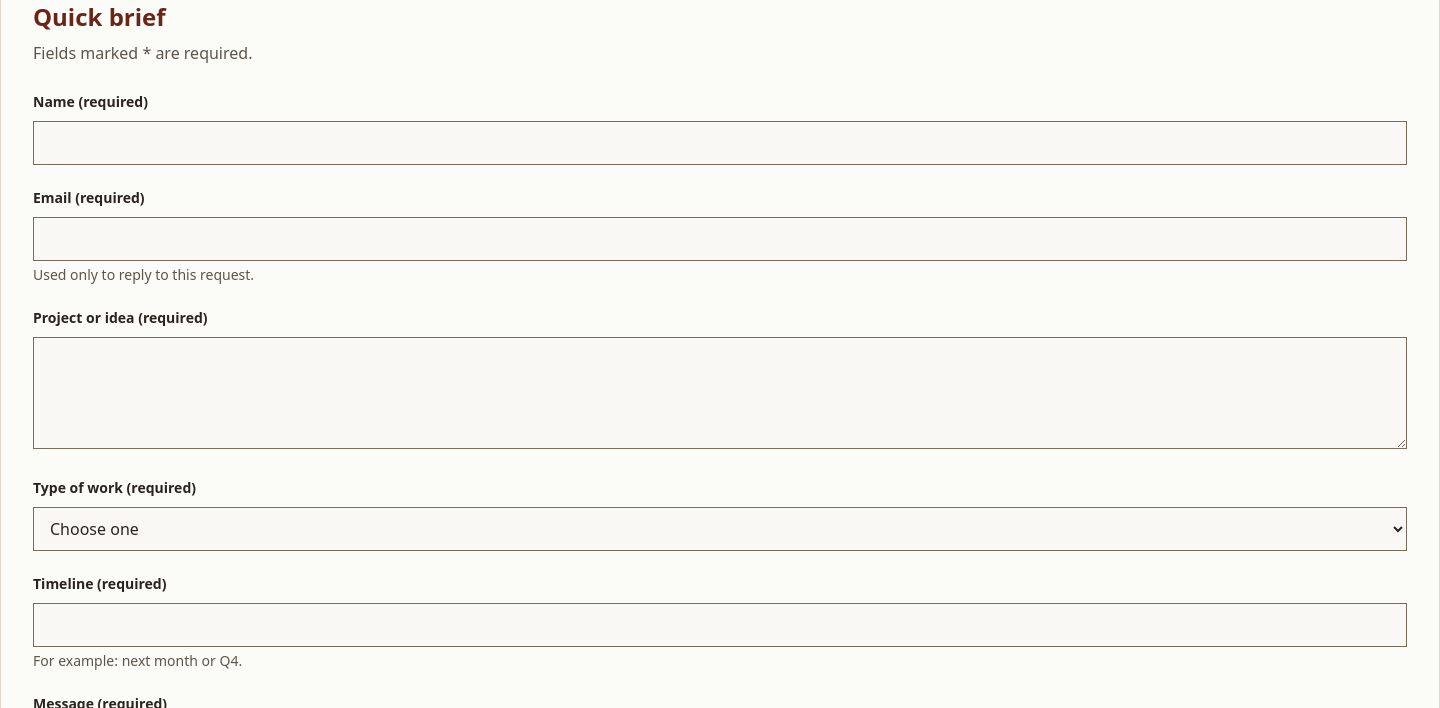
Test: ContactForm › preserves entries after a provider error
Type "David Example" into the field labelled "Name (required)" at (720, 143), box left=33, top=121, right=1407, bottom=165
Type "david@example.com" into the field labelled "Email (required)" at (720, 239), box left=33, top=217, right=1407, bottom=261
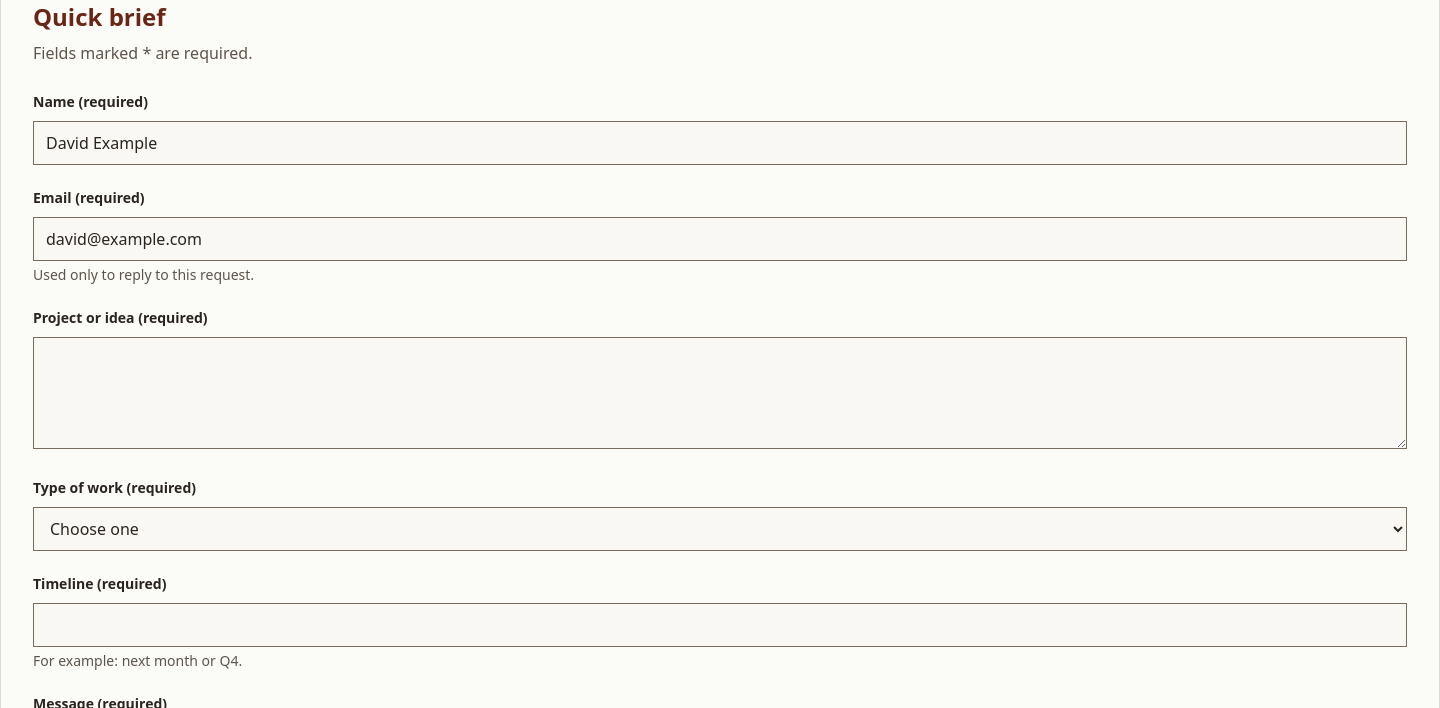
Type "An accessible project" into the text box labelled "Project or idea (required)" at (720, 393), box left=33, top=337, right=1407, bottom=449
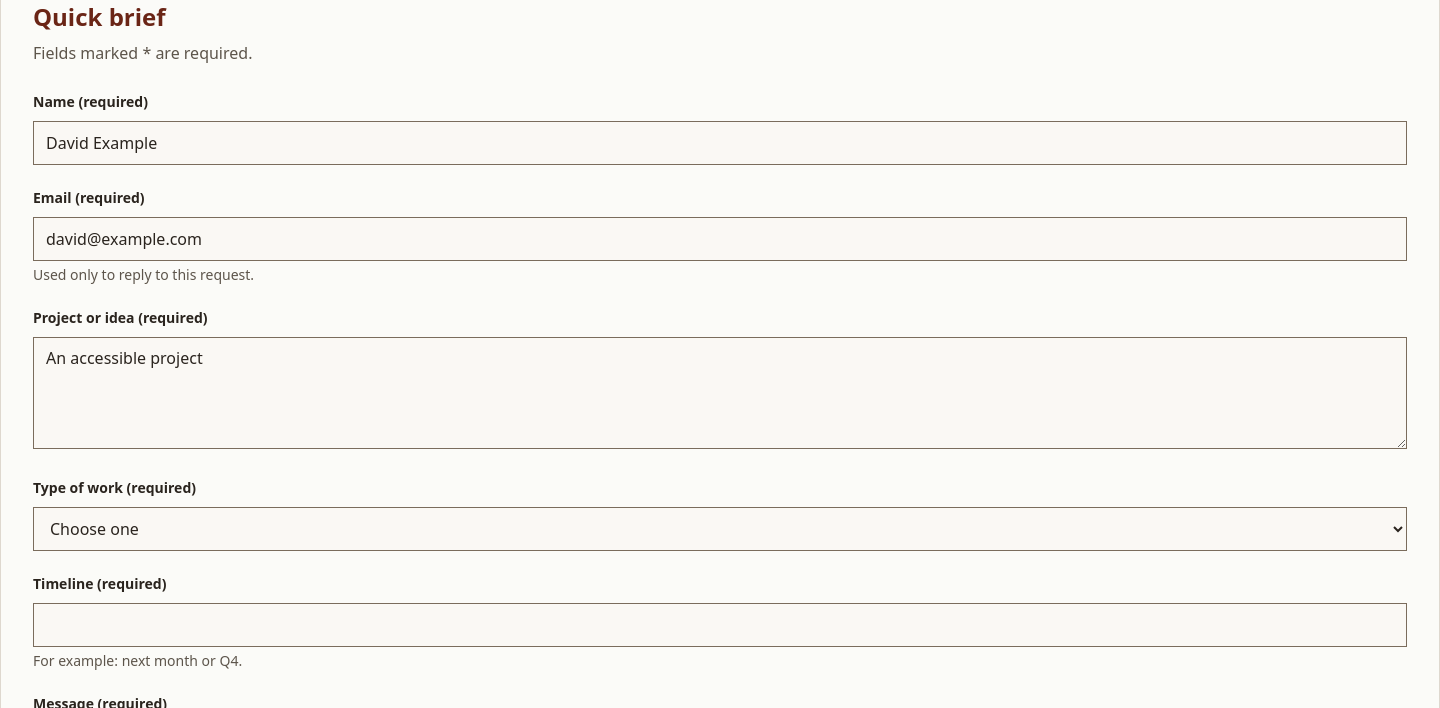
Select "Consulting" in the dropdown labelled "Type of work (required)" at (720, 529), box left=33, top=507, right=1407, bottom=551
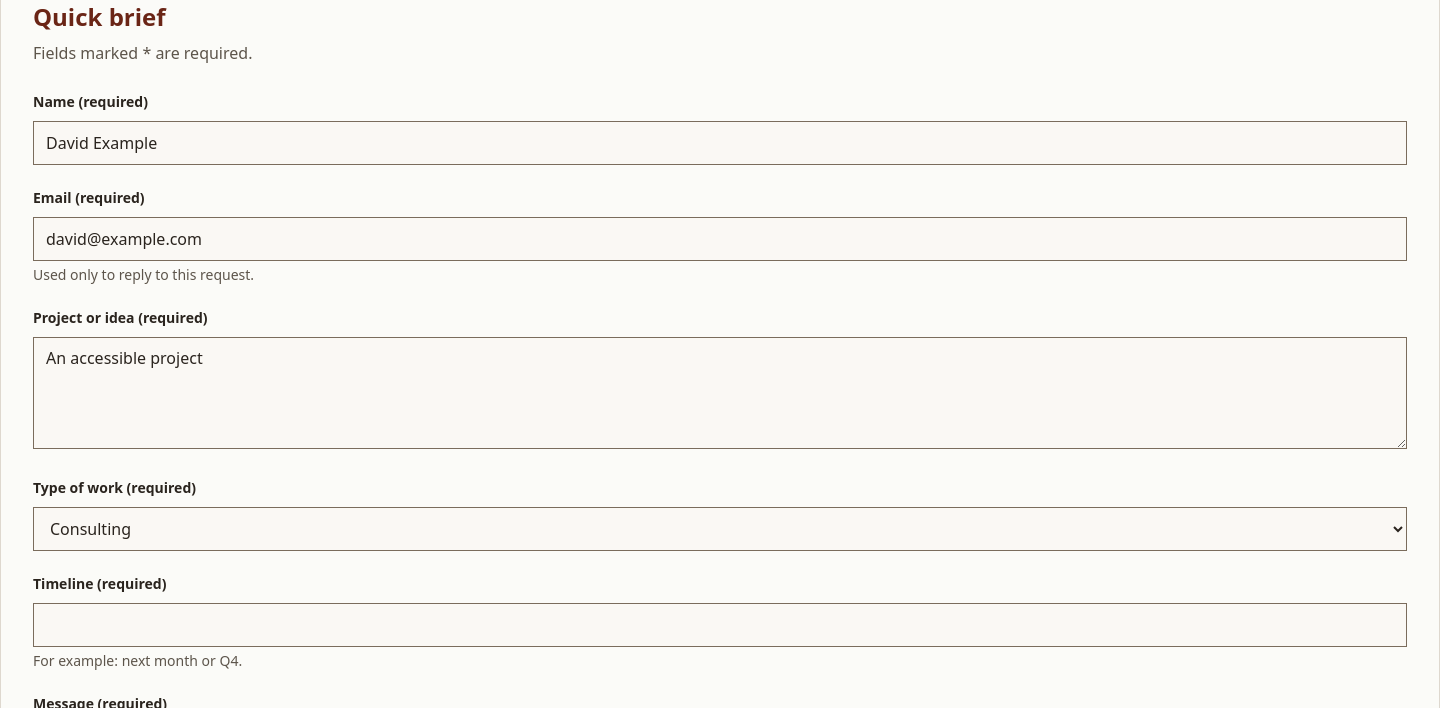
Type "Next month" into the field labelled "Timeline (required)" at (720, 625), box left=33, top=603, right=1407, bottom=647
(page scrolled)
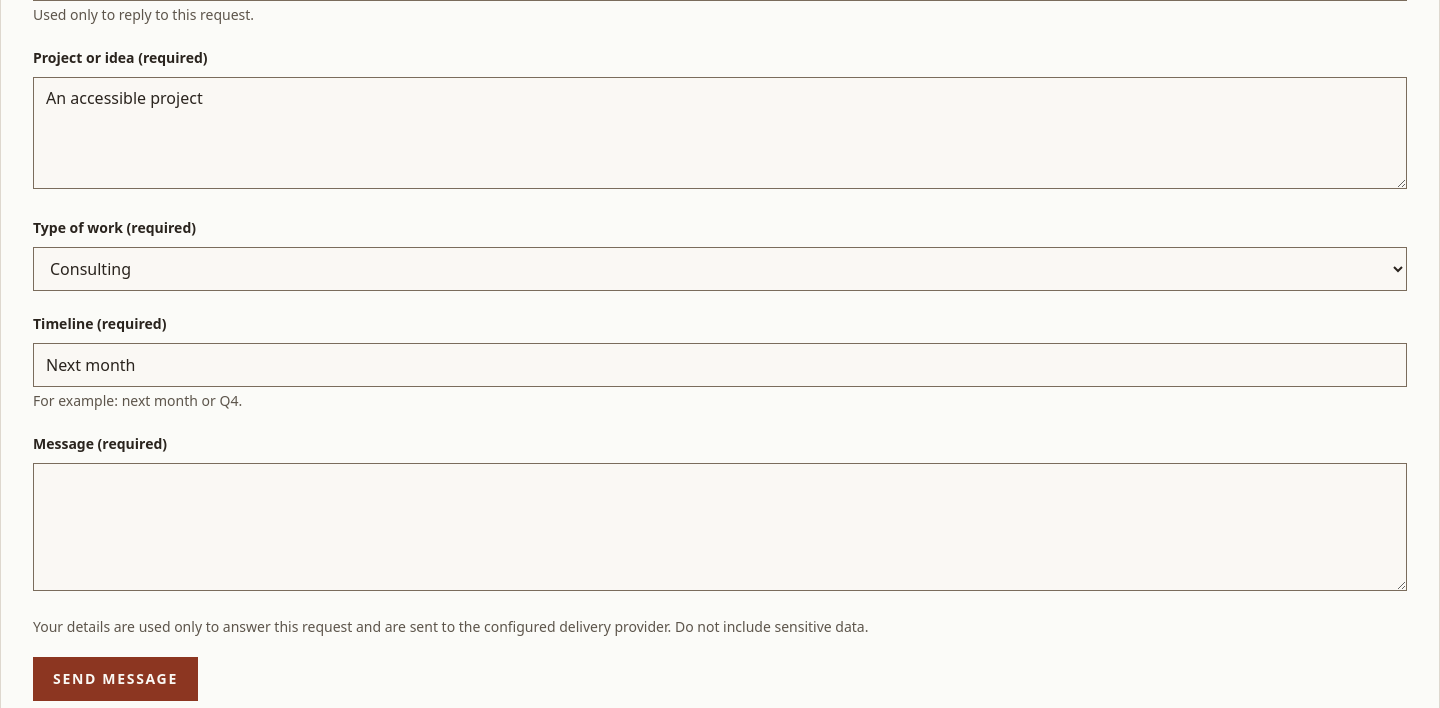
Type "Please contact me about this project." into the text box labelled "Message (required)" at (720, 527), box left=33, top=463, right=1407, bottom=591
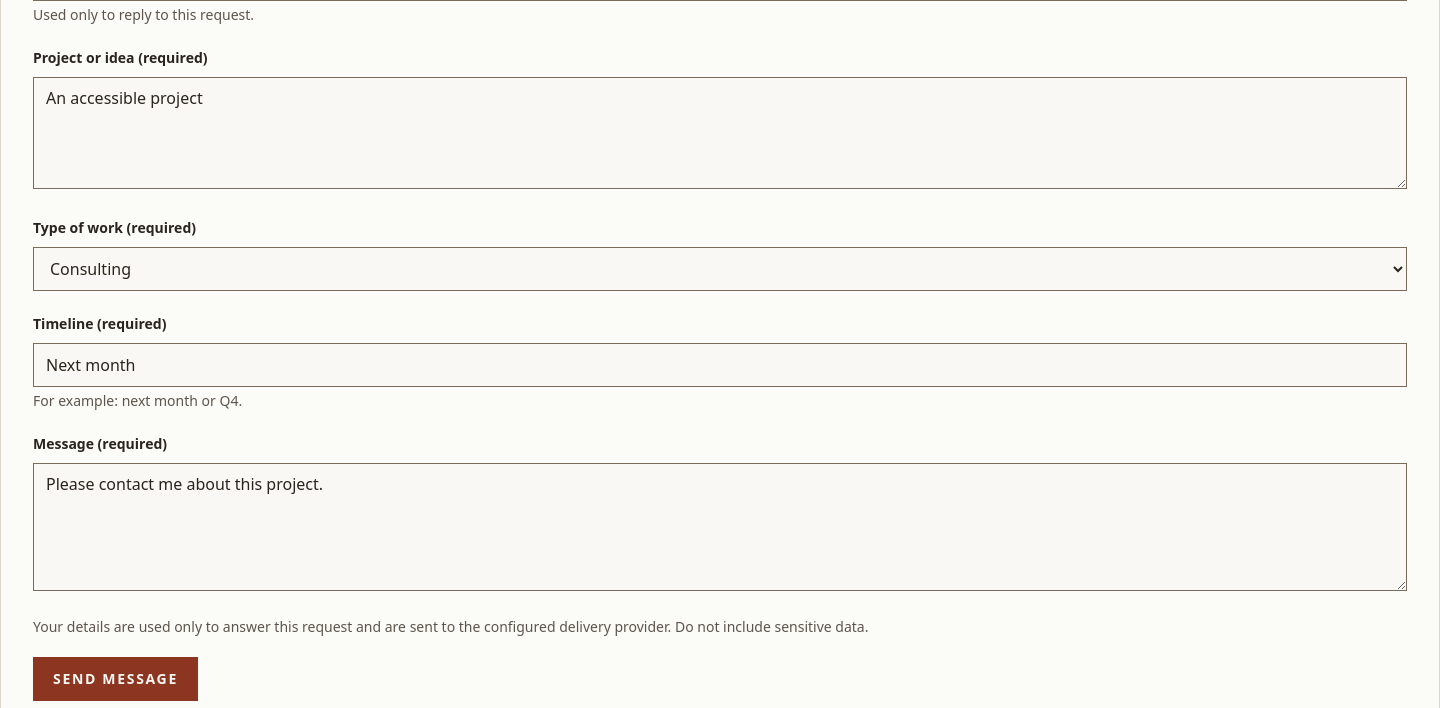
Click the button "Send message" at (115, 679), box left=33, top=657, right=198, bottom=701
(page scrolled)
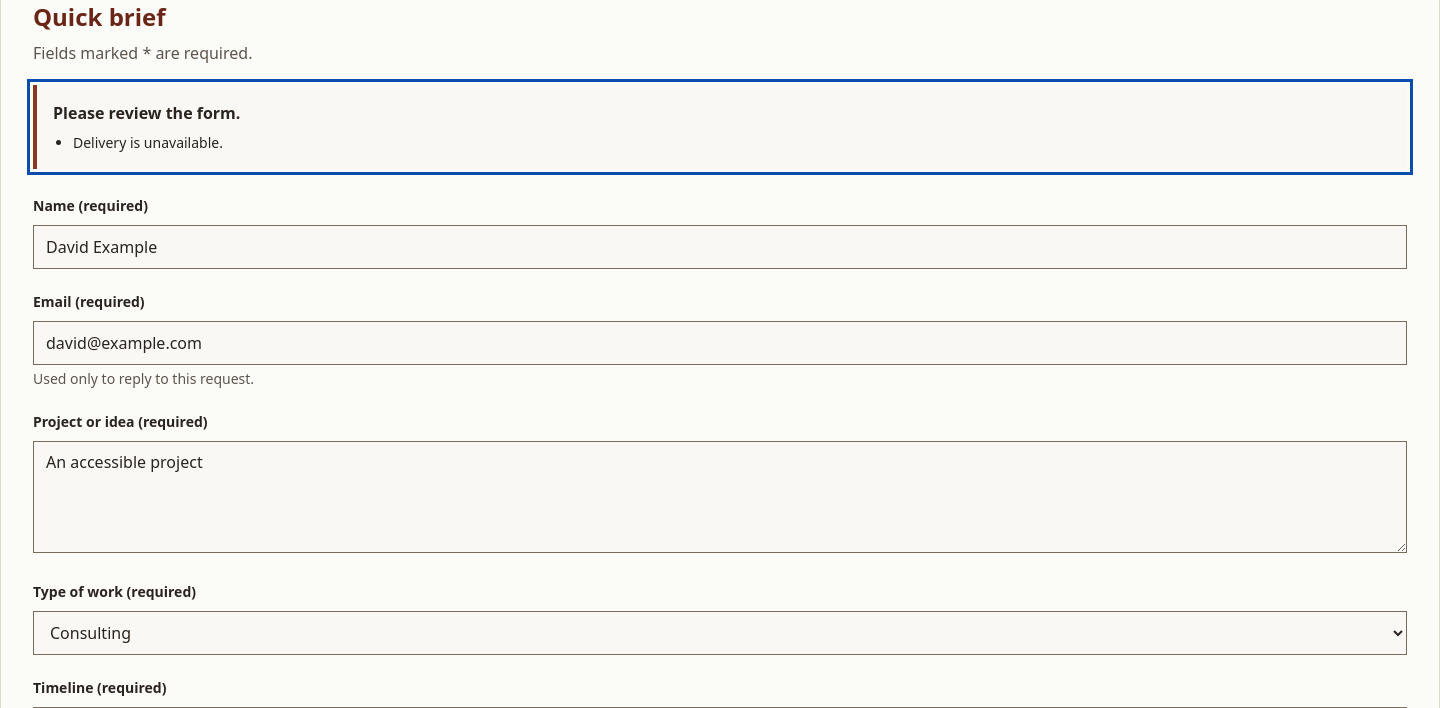
Expected: the message shows "Delivery is unavailable", left=73, top=133, right=223, bottom=152
